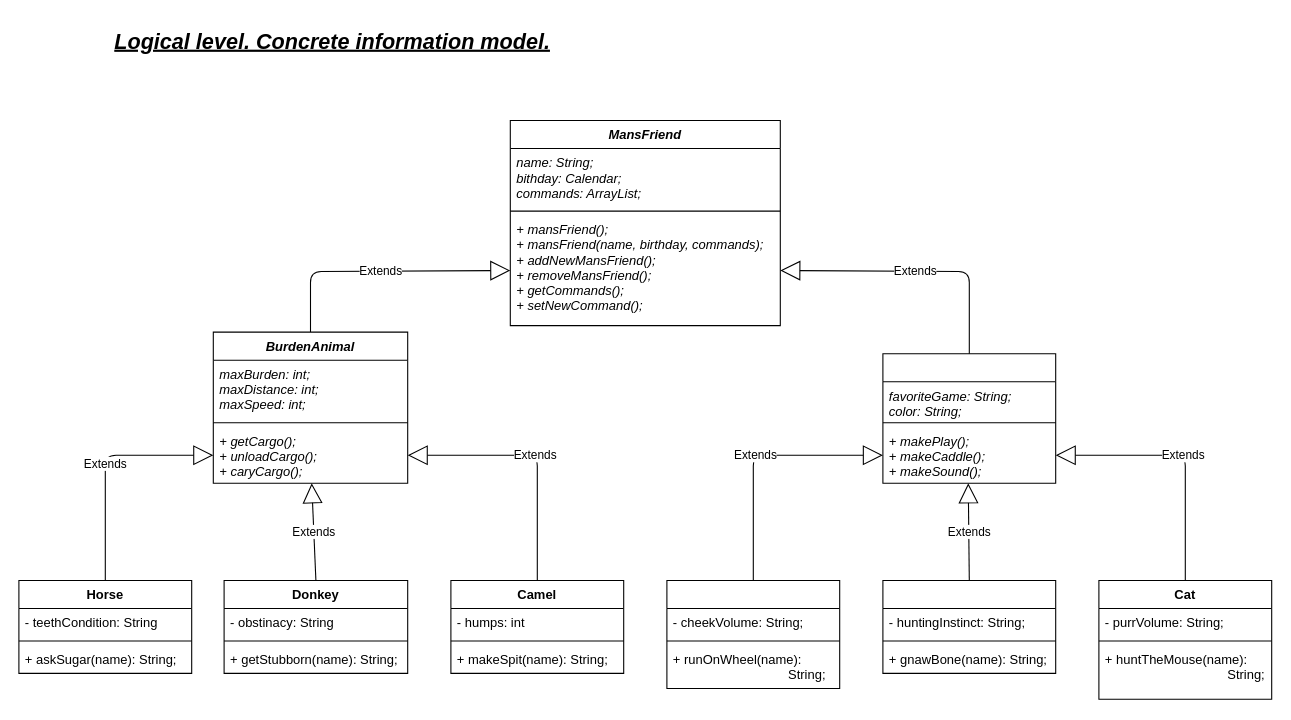
Some shapes in this 1291 by 720 pixel diagram are drawn without their labels. The shapes that lost their labels are listed below. From the top down, each one's box as (x1, y1, x2, y2) in pixels, then its label:
(882, 353, 1056, 483): Pet
(666, 579, 840, 688): Hamster
(882, 579, 1056, 673): Dog
